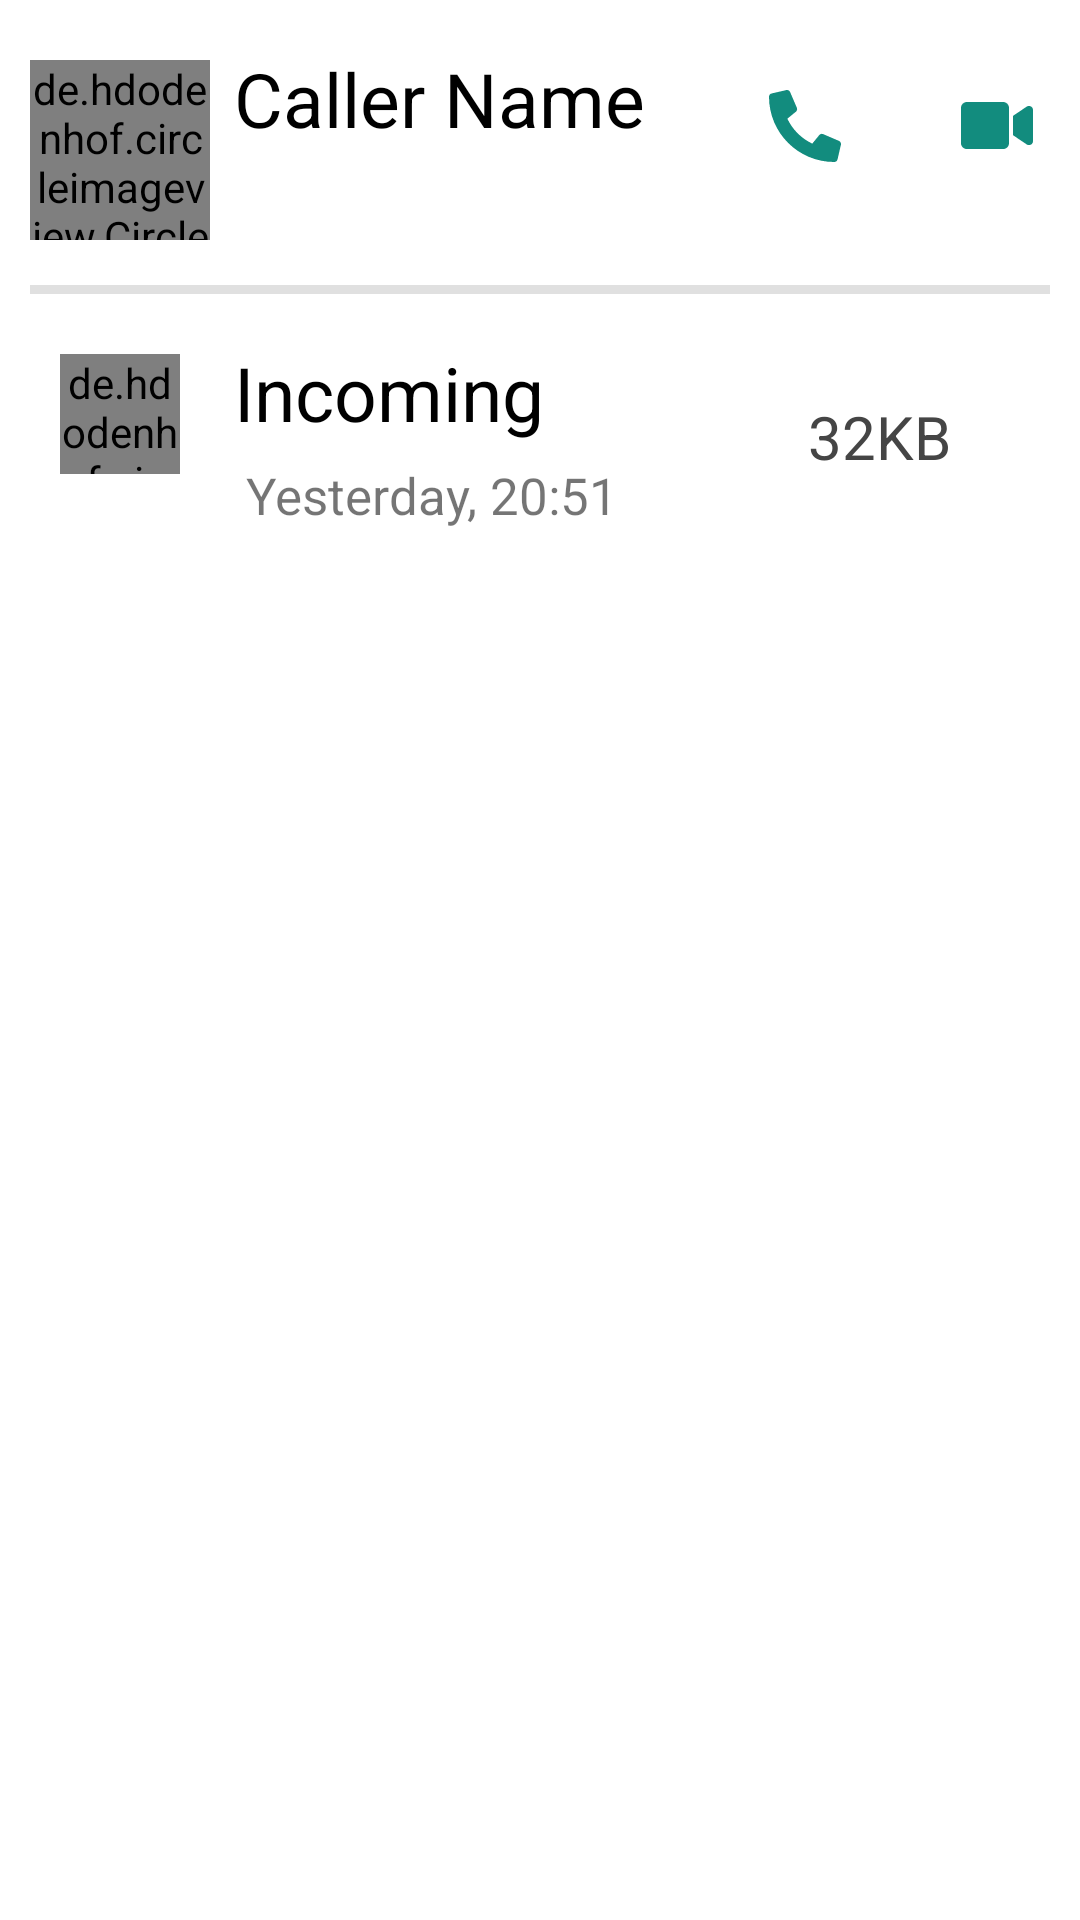

Icon bounding boxes for this 1080*1920 phone screenshot, format (x1, y1, x2, y2):
video: (961, 102, 1033, 149)
